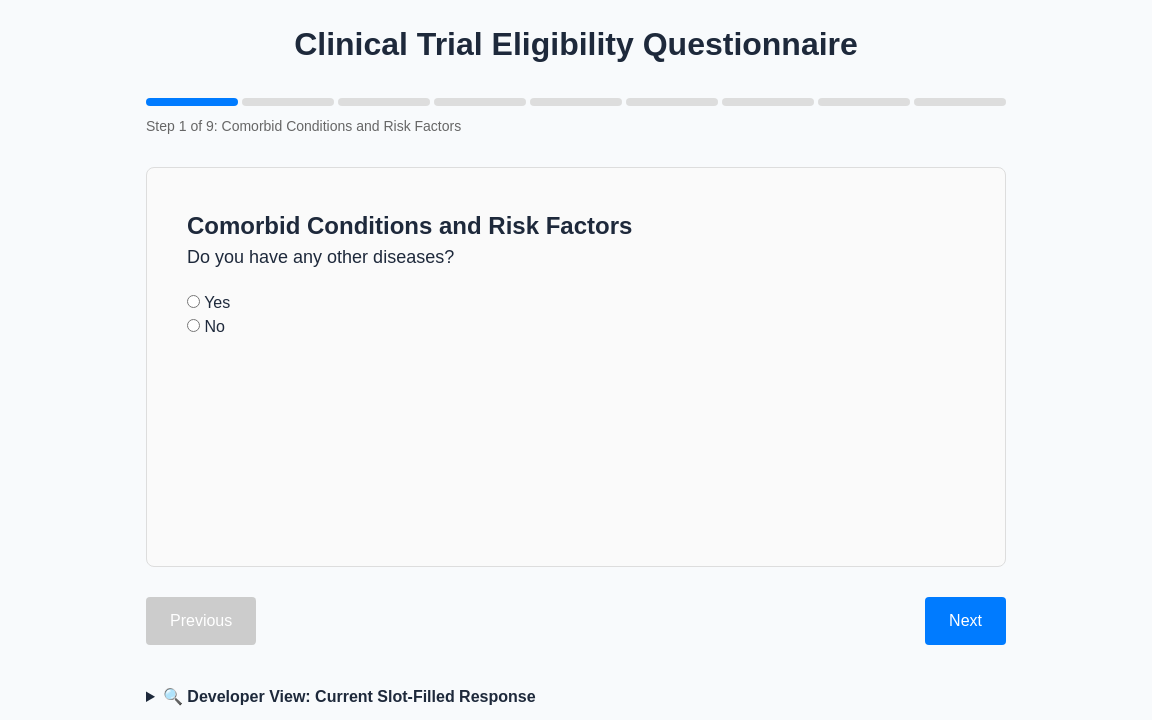
Test case: Contract 3: Lung Cancer Autocomplete and Matching › Autocomplete Suggestions › shows "cancer" as a general option
Step 1. Click the radio button labelled "Yes" → (194, 302), box top-left (187, 295), bottom-right (200, 308)
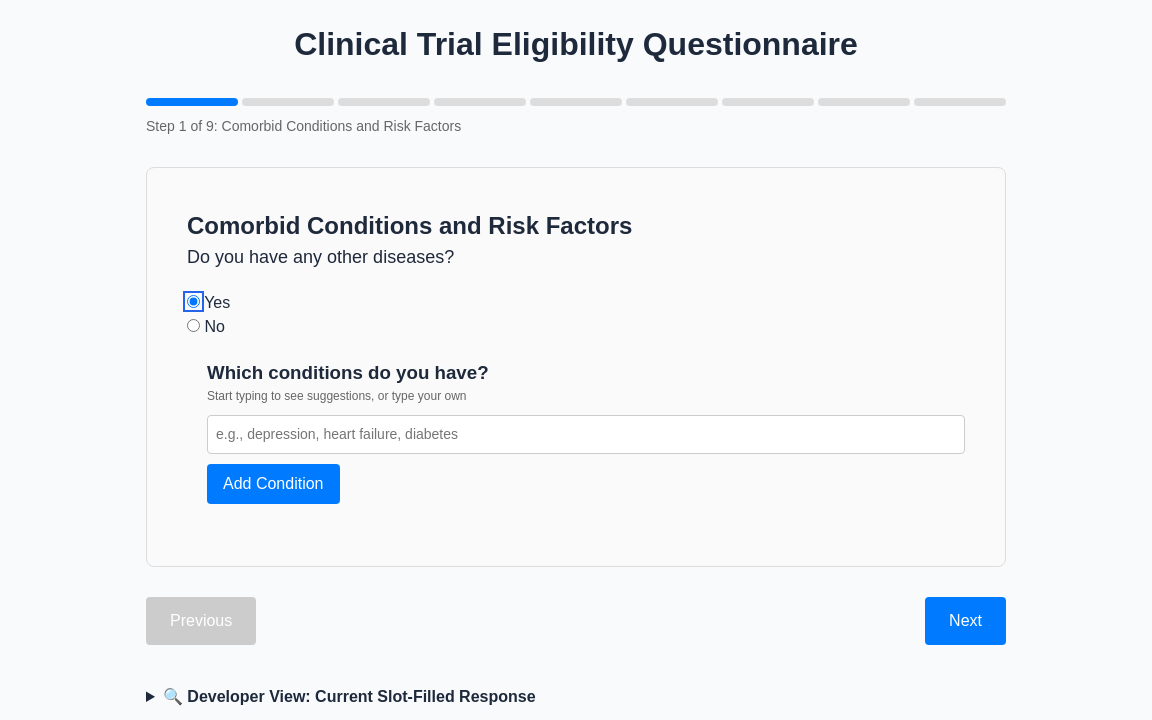
Step 2. Type "canc" into the field with placeholder "e.g., depression, heart failure, diabetes" → (586, 435), box top-left (207, 415), bottom-right (965, 454)
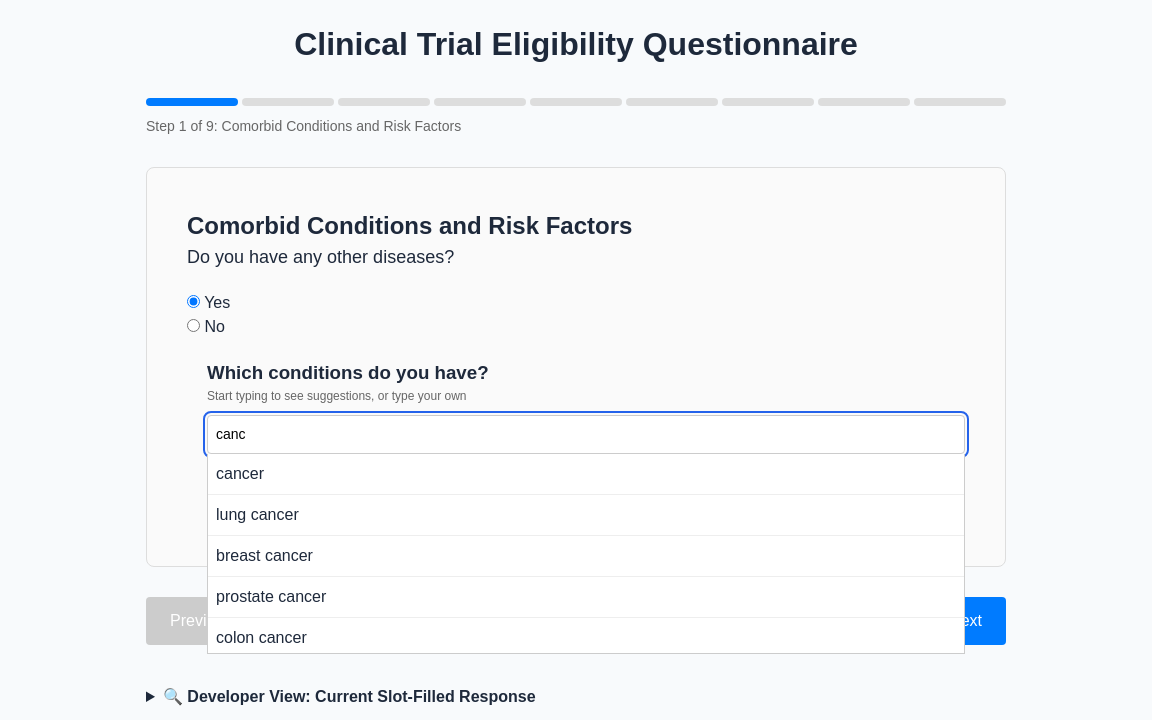
Now the text "cancer" is shown, box top-left (208, 454), bottom-right (964, 495)
